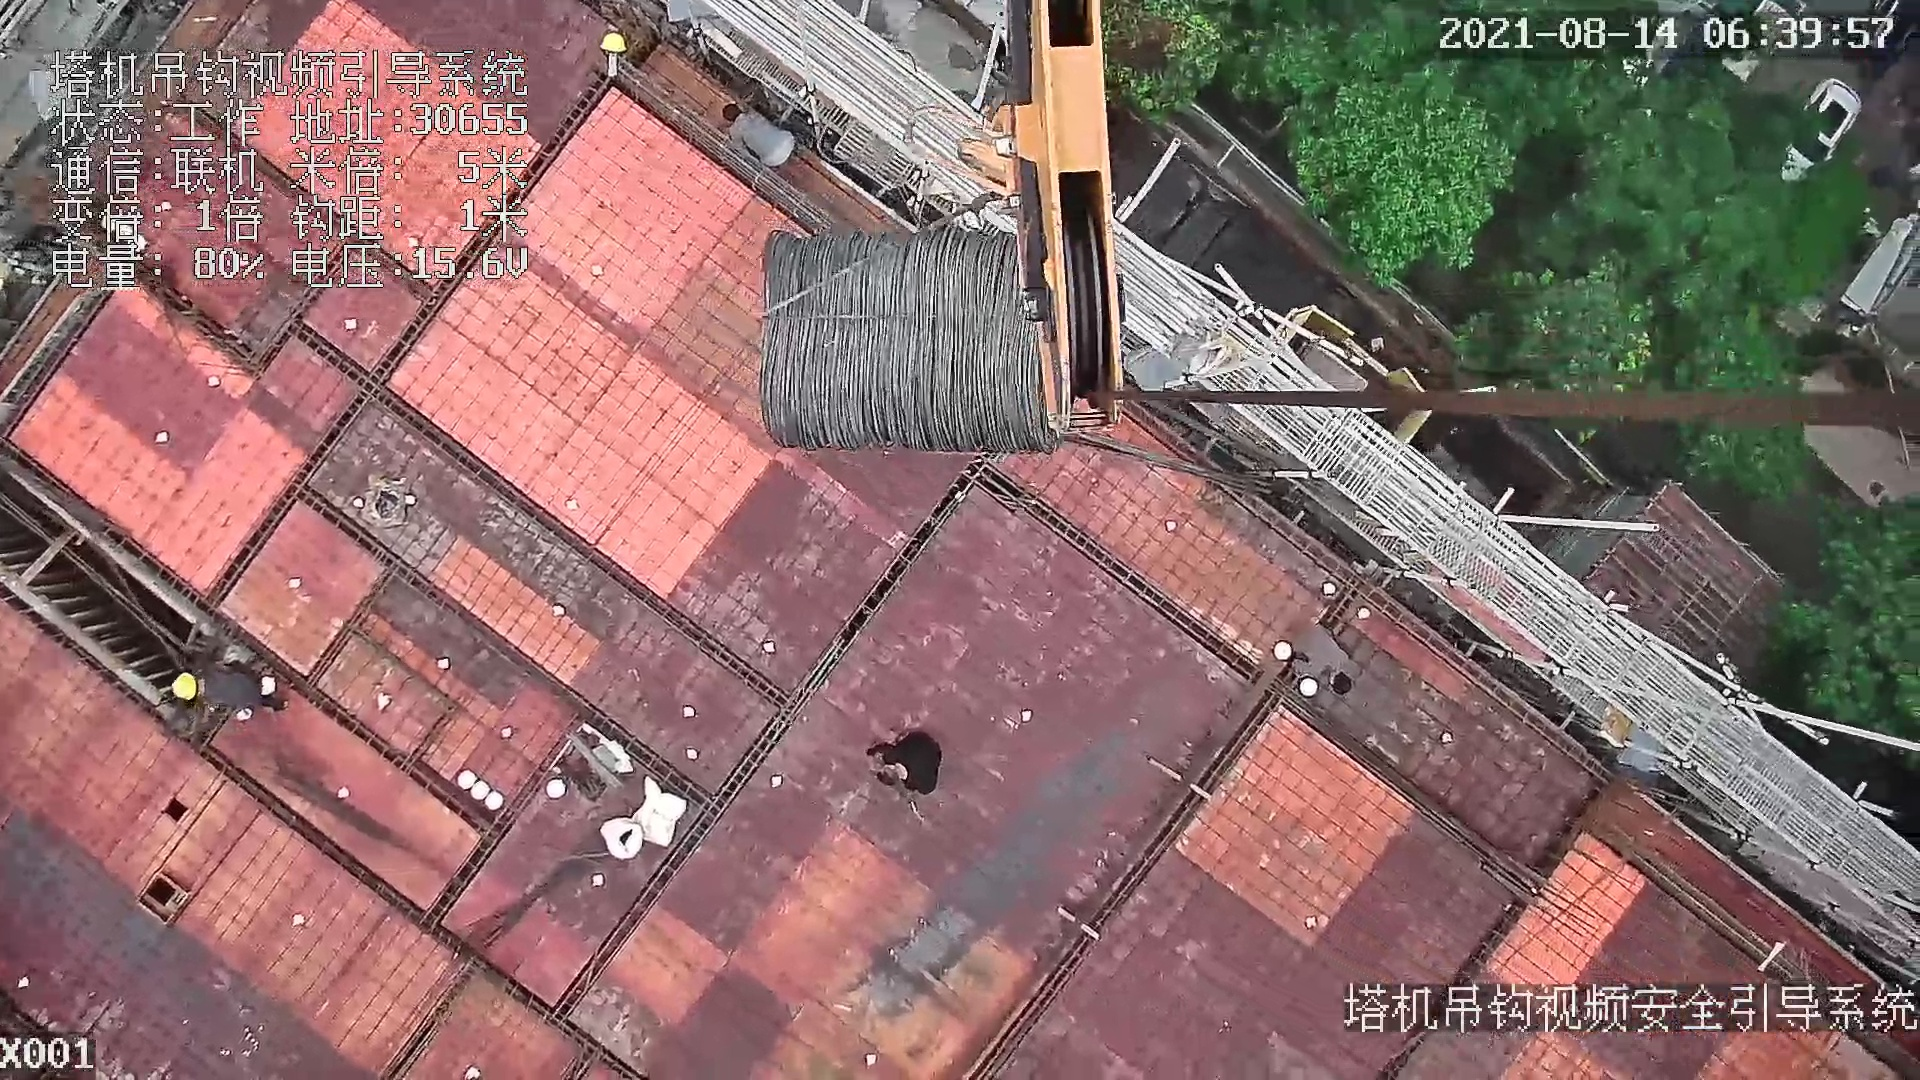helmet: (169, 667, 210, 706), (593, 29, 633, 59)
hook: (945, 1, 1127, 433)
person: (165, 661, 290, 729), (1283, 606, 1363, 695), (864, 727, 951, 804)
